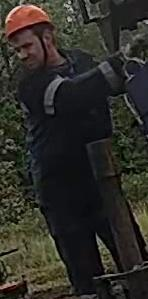helmet: (3, 4, 50, 41)
vest: (18, 50, 106, 196)
